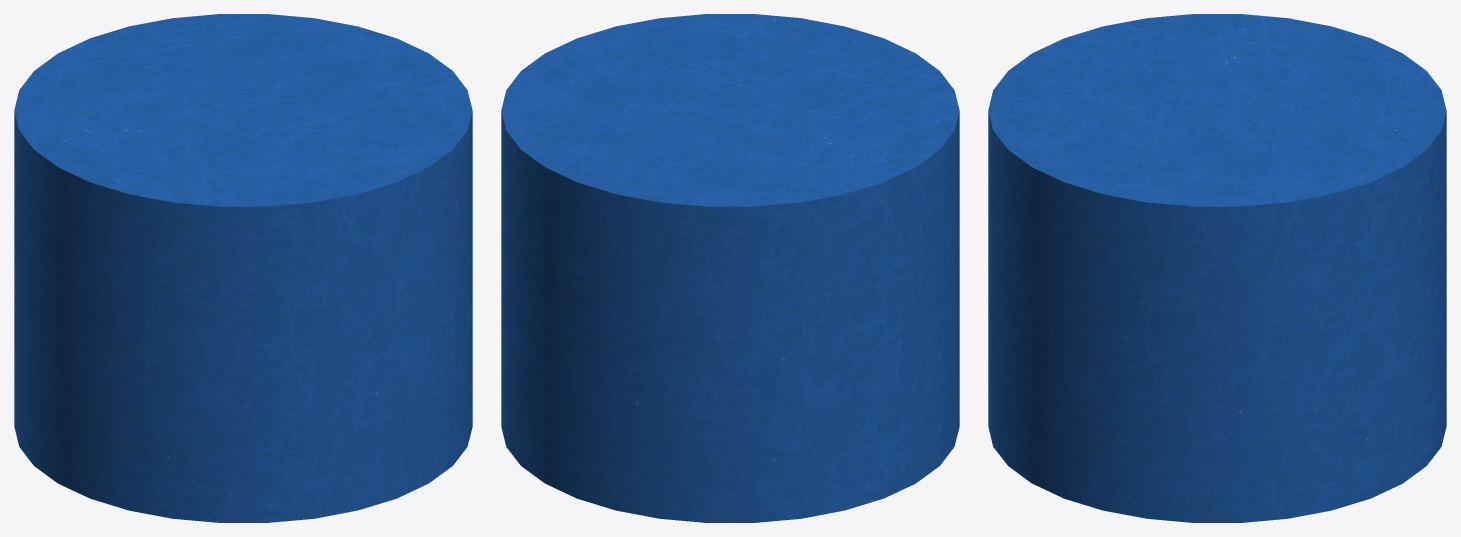
File: SM_乙酸乙酯瓶盖.fbx
3 views of the same model, side by side, from view 1: azimuth 30°, elevation 25°; view 2: azimuth 150°, elevation 25°; view 3: azimuth 270°, elevation 25° (orthographic).
Parts seen in each view (by area): view 1: SM_乙酸乙酯瓶盖; view 2: SM_乙酸乙酯瓶盖; view 3: SM_乙酸乙酯瓶盖.
Boxes of the visible parts, bbox=[...] form: SM_乙酸乙酯瓶盖: bbox=[14, 14, 472, 522]; SM_乙酸乙酯瓶盖: bbox=[501, 14, 959, 522]; SM_乙酸乙酯瓶盖: bbox=[988, 14, 1446, 522].
Bounding box in the file's own units: 27.38 × 20.97 × 27.52.
